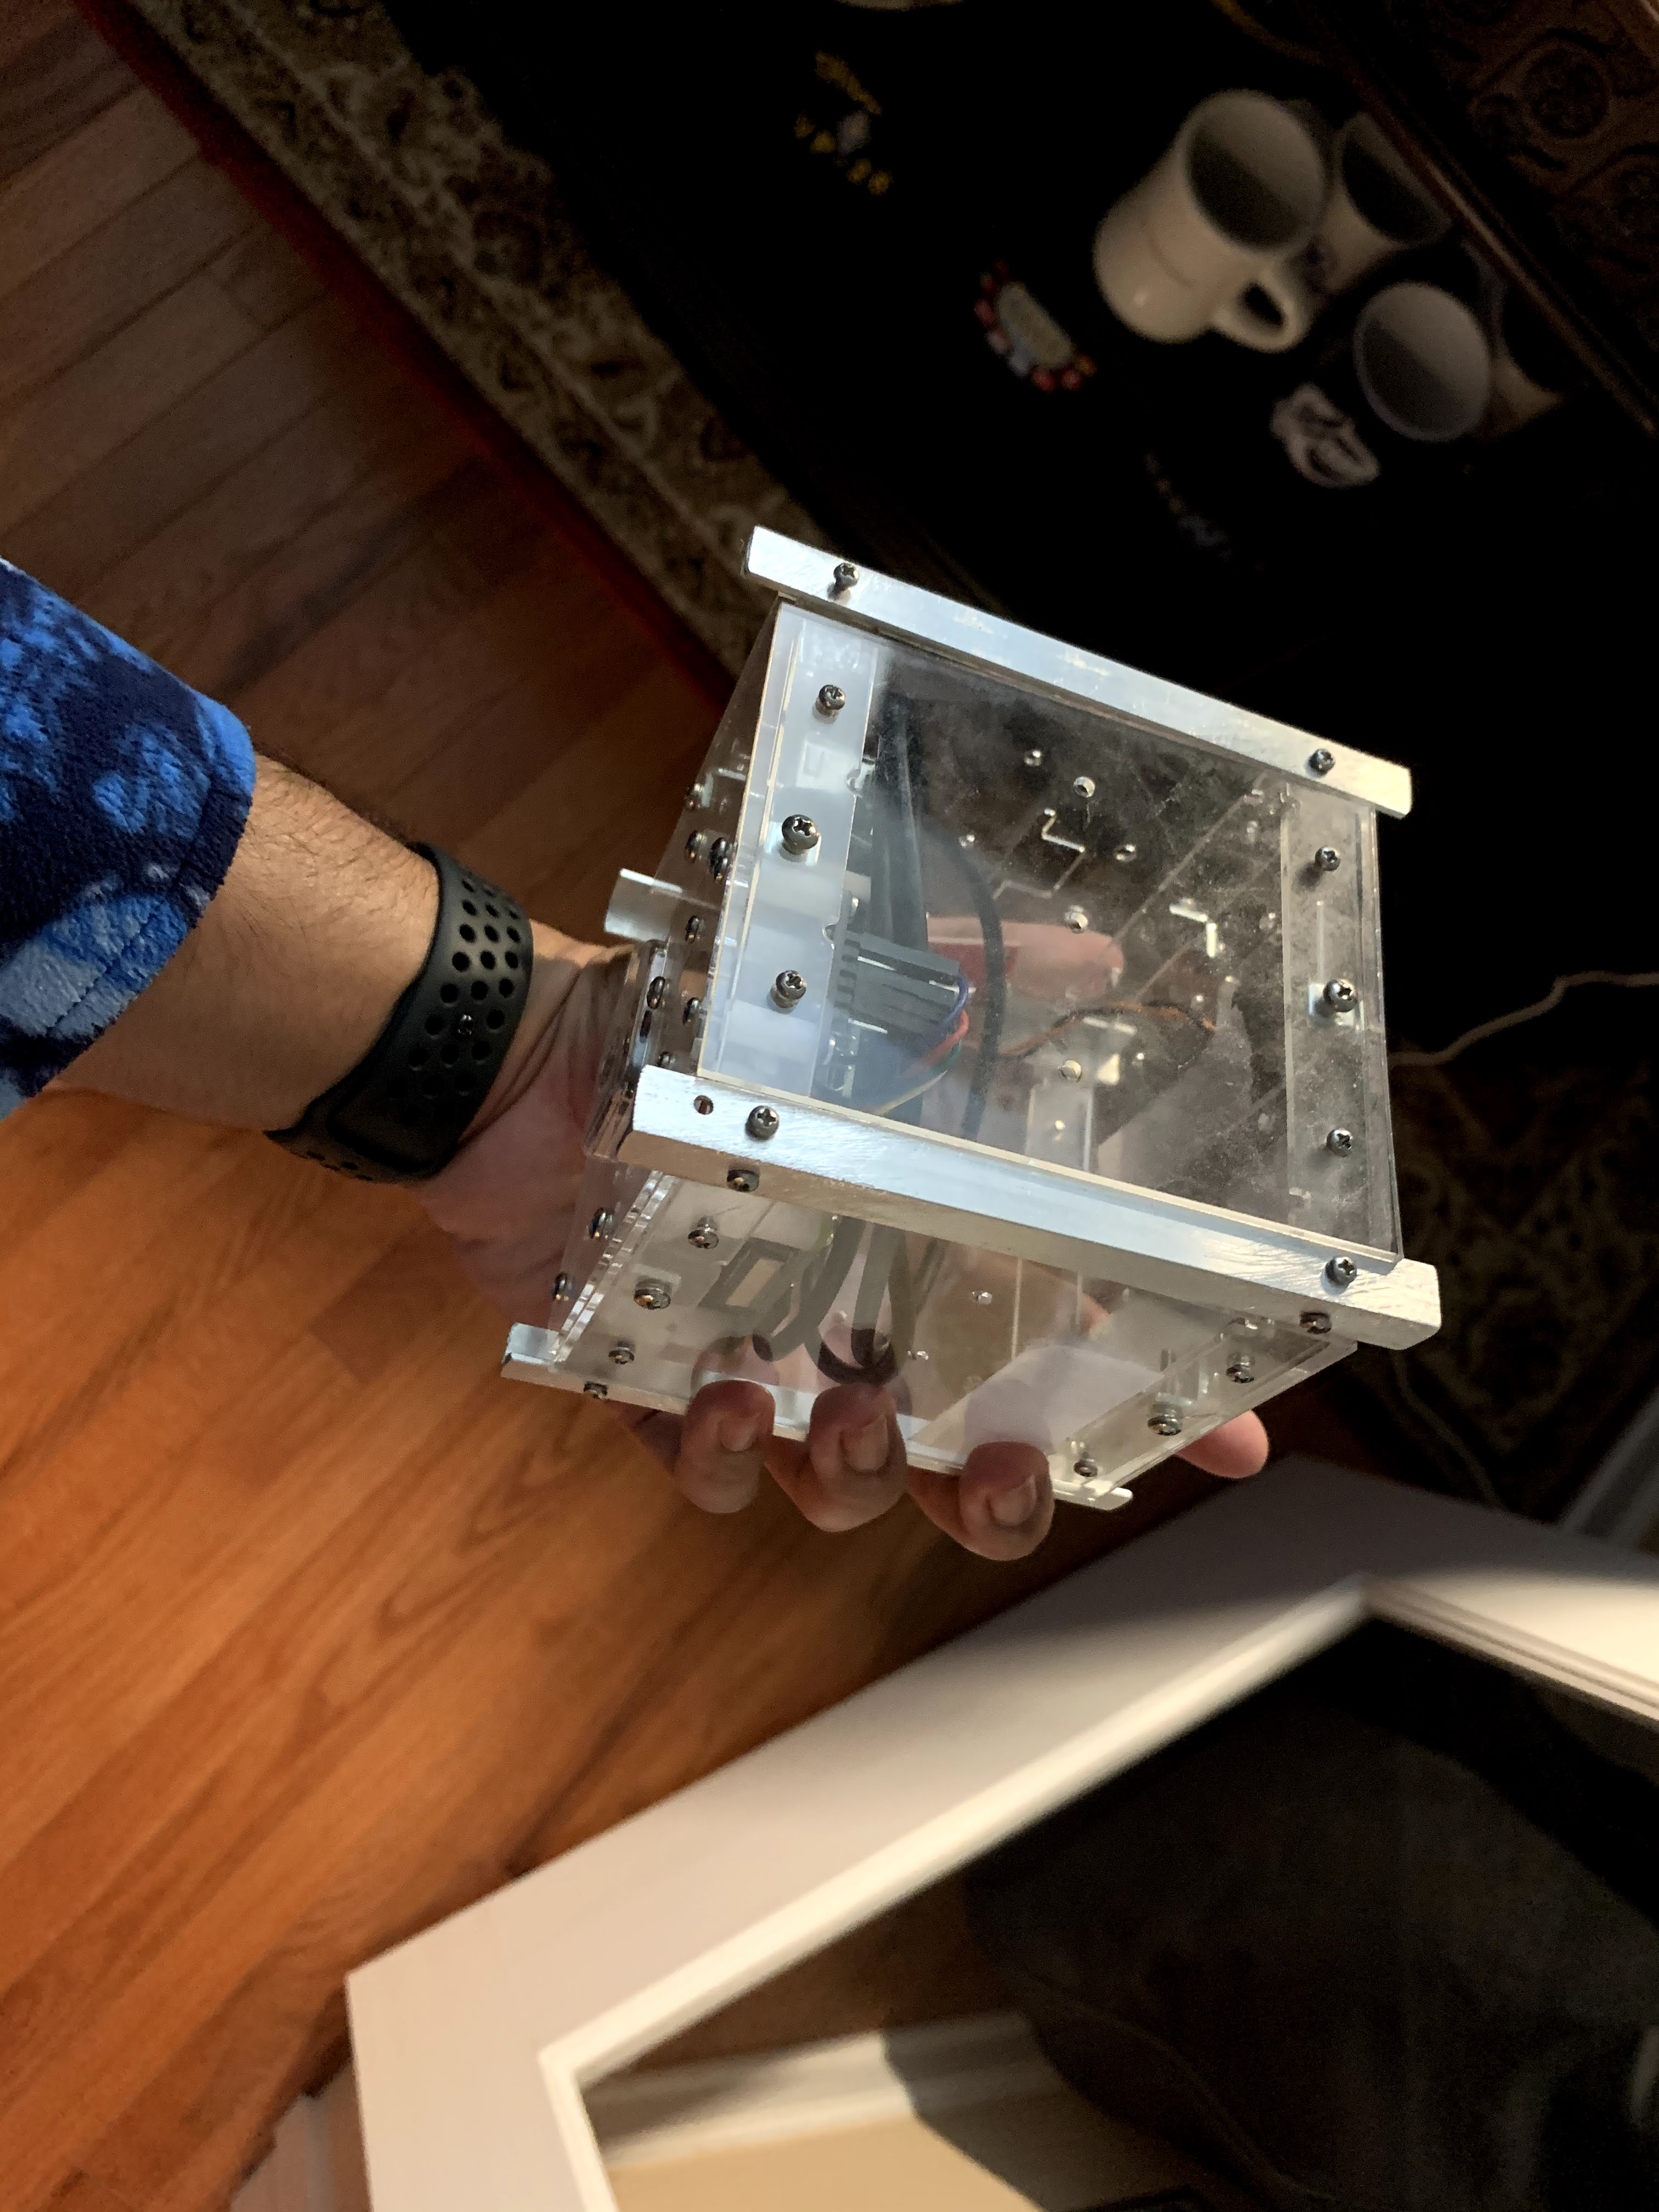Space-debris-cubesat: (566, 456, 1460, 1552)
